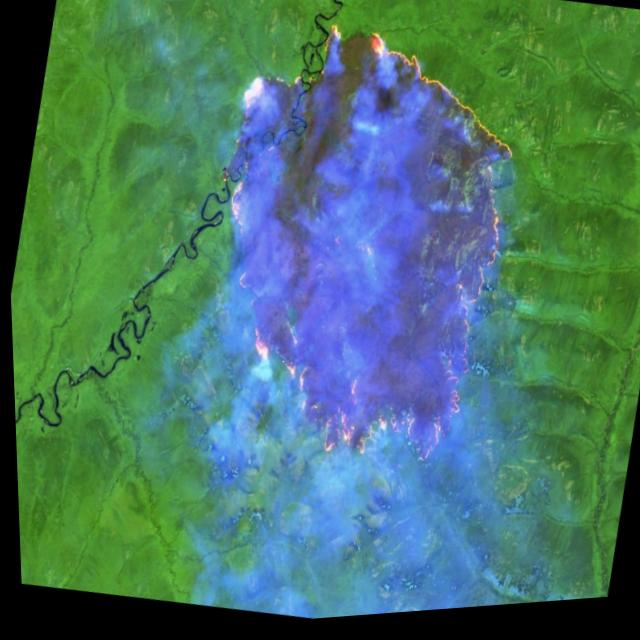fire: (158, 0, 560, 509)
